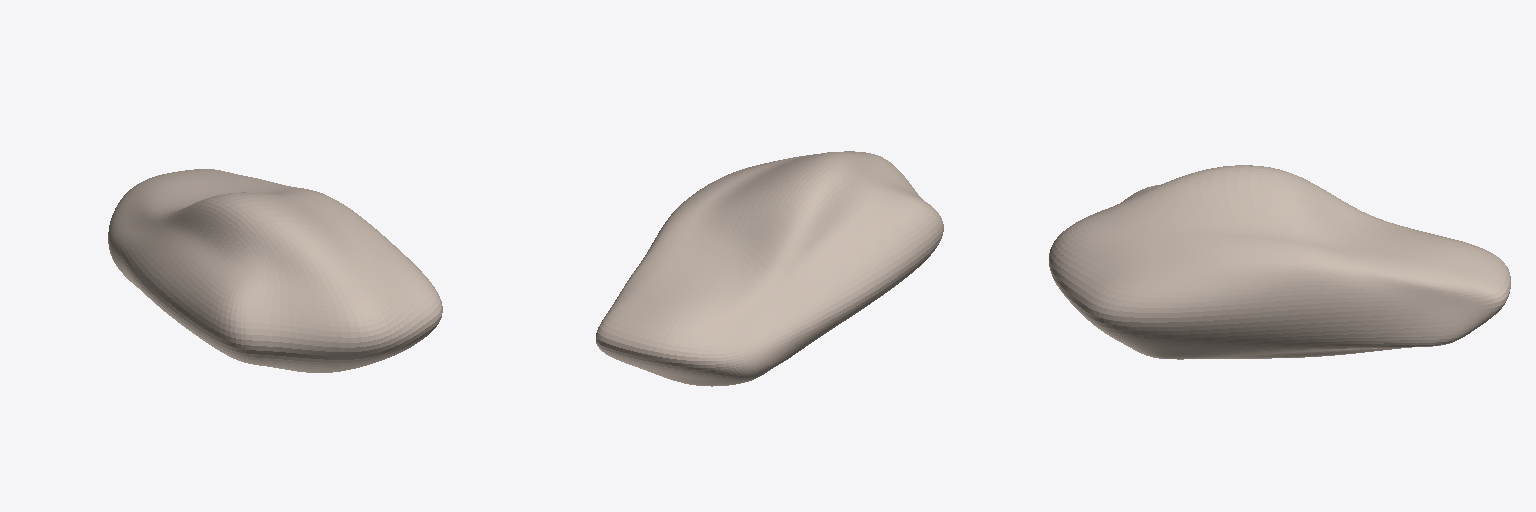
Rendered from pebbles_4.obj.
3 views of the same model, side by side, from view 1: azimuth 30°, elevation 25°; view 2: azimuth 150°, elevation 25°; view 3: azimuth 270°, elevation 25° (orthographic).
Visible parts, largest first — view 1: Rock.Landscape.Style_4; view 2: Rock.Landscape.Style_4; view 3: Rock.Landscape.Style_4.
Boxes of the visible parts, box(x1,y1,x2,y2) form: Rock.Landscape.Style_4: box(108, 169, 442, 372); Rock.Landscape.Style_4: box(596, 151, 943, 386); Rock.Landscape.Style_4: box(1049, 165, 1510, 359).
Bounding box in the file's own units: 2.42 × 1.58 × 4.47.